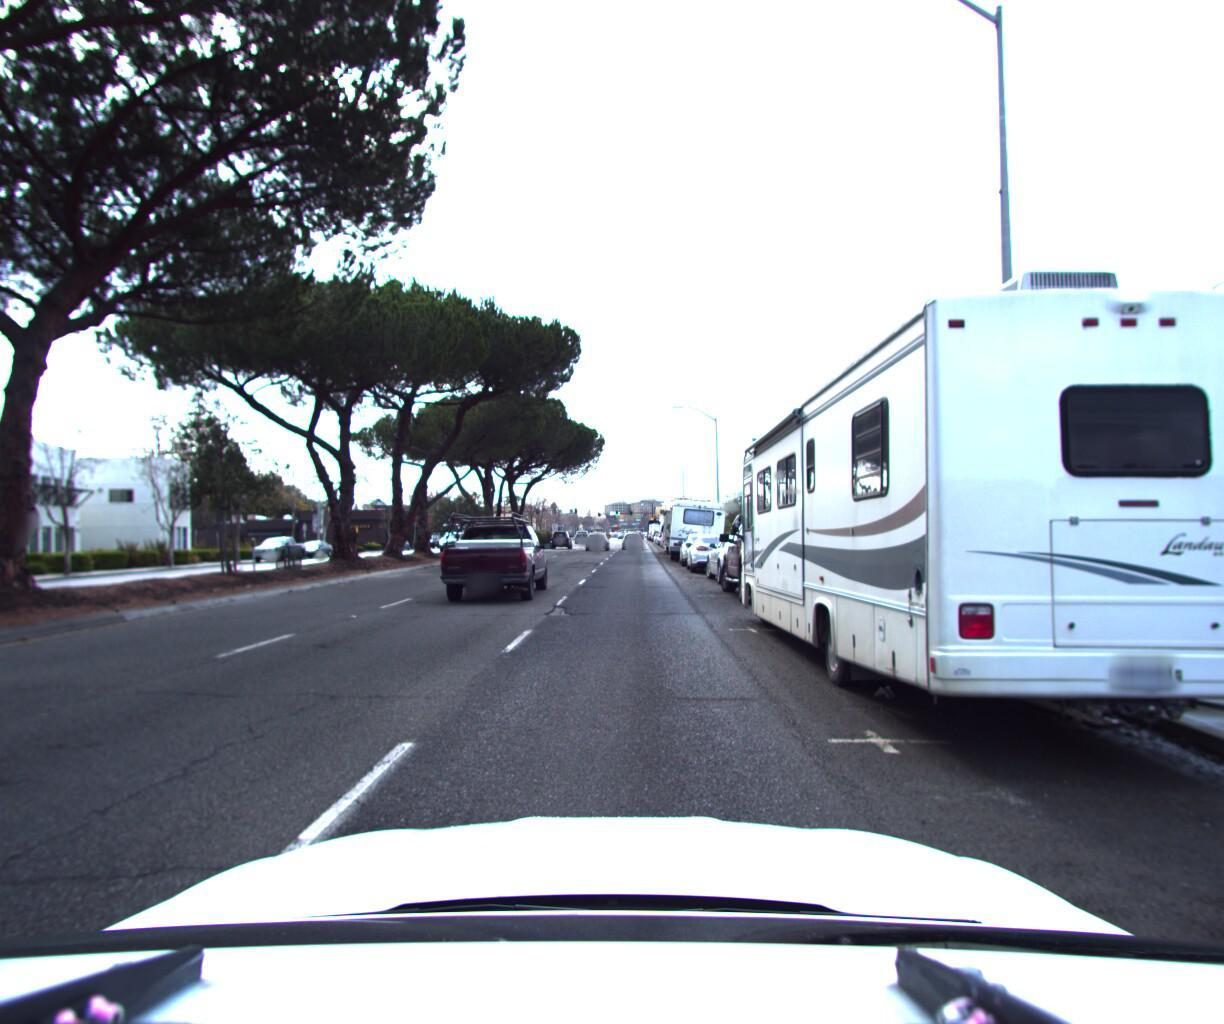car: (719, 515, 853, 615), (445, 507, 550, 605), (703, 534, 789, 591), (687, 534, 746, 578), (255, 538, 314, 567), (681, 534, 727, 571), (299, 541, 340, 562), (438, 532, 471, 552), (583, 531, 608, 552), (551, 530, 576, 549), (620, 532, 642, 551)
other_vehicle: (670, 497, 730, 566), (664, 510, 711, 558)
truck: (722, 261, 1224, 807)
